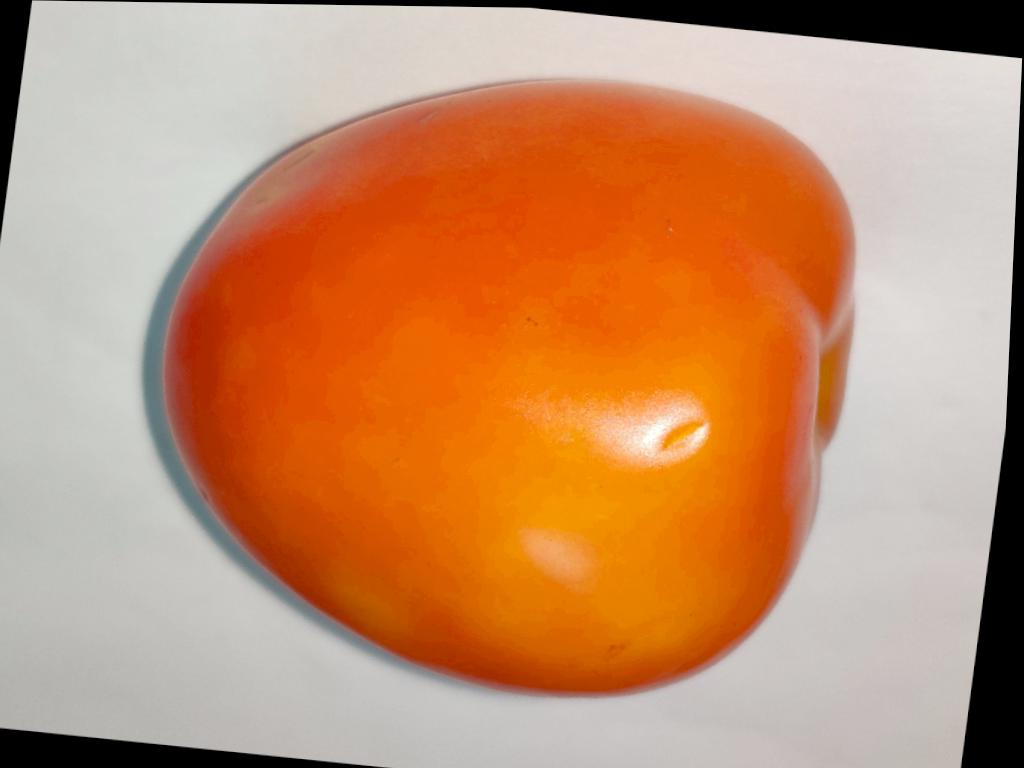tomato: (162, 82, 853, 696)
